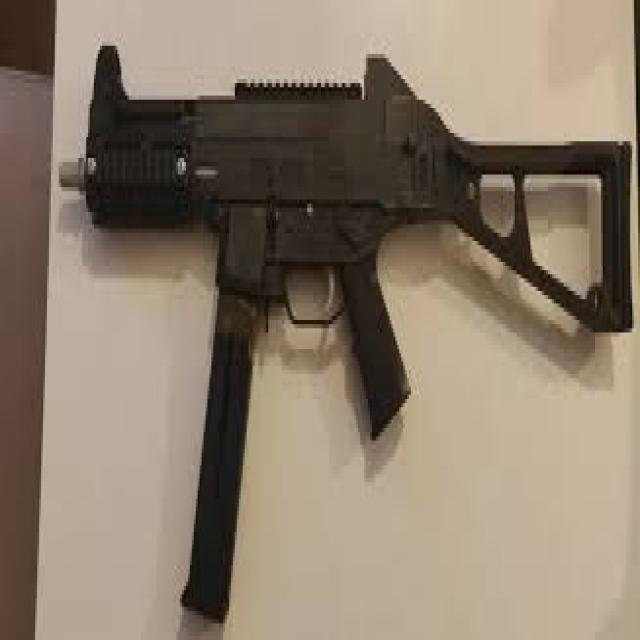Gun: (45, 39, 640, 570)
